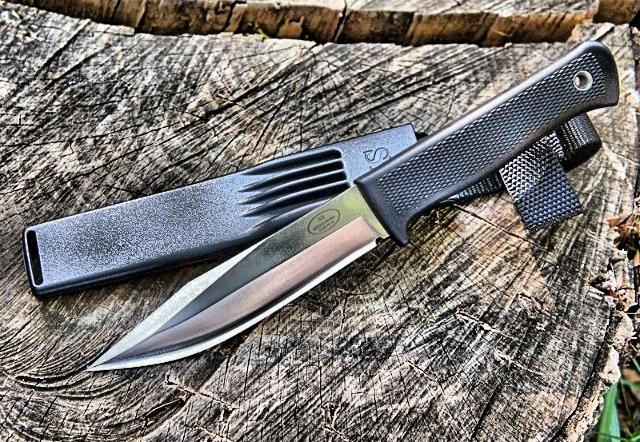knife: (80, 180, 396, 374)
